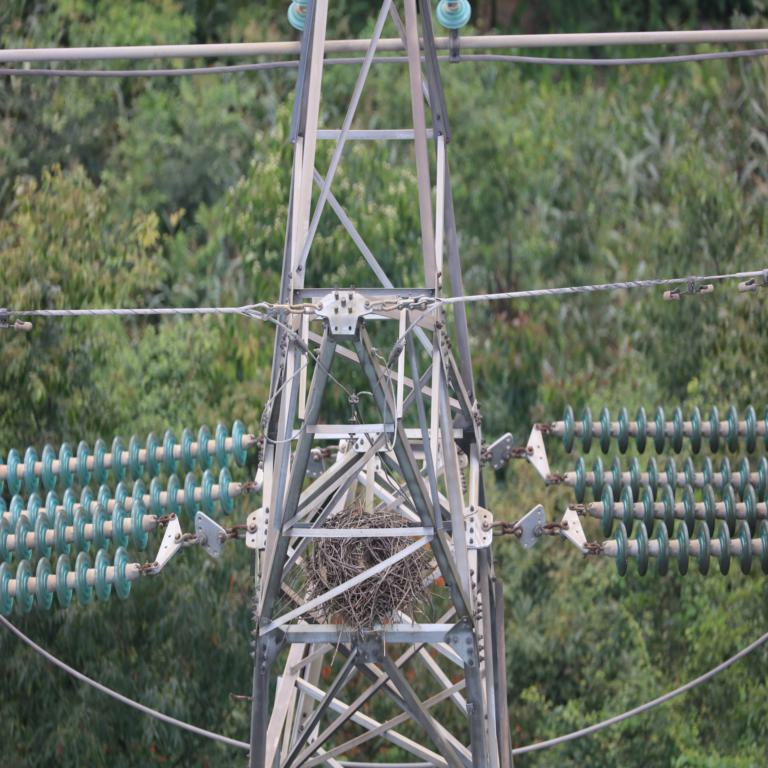nest: (305, 509, 421, 626)
